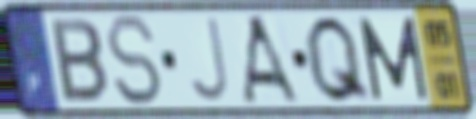A: (240, 13, 303, 107)
B: (48, 15, 111, 106)
J: (186, 15, 232, 106)
M: (355, 14, 432, 104)
Q: (301, 12, 375, 106)
S: (102, 12, 165, 109)
